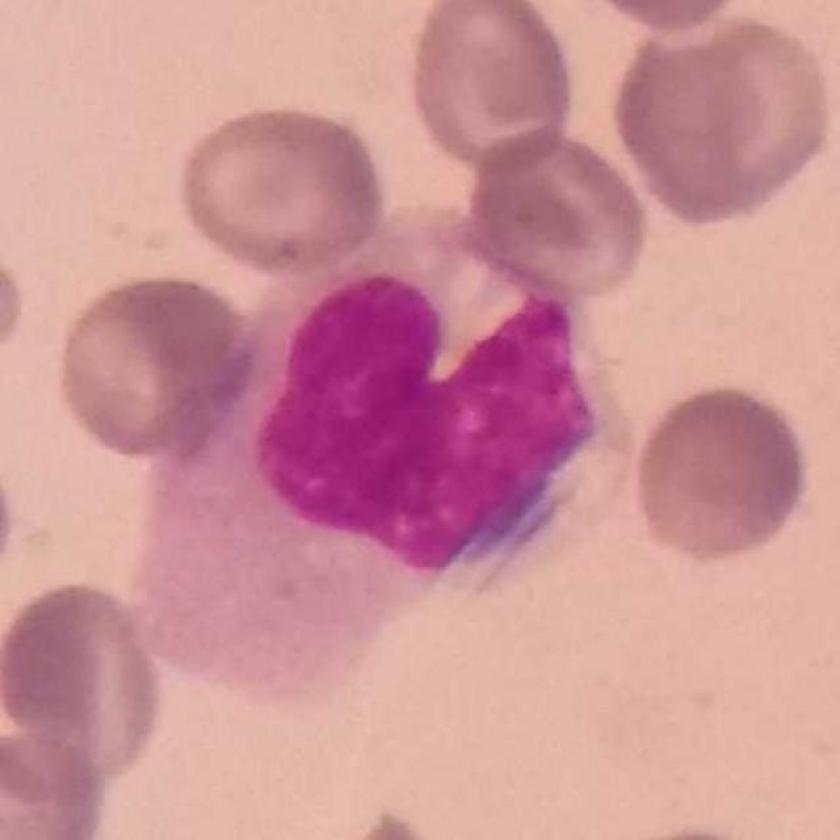monocyte: (131, 193, 615, 705)
